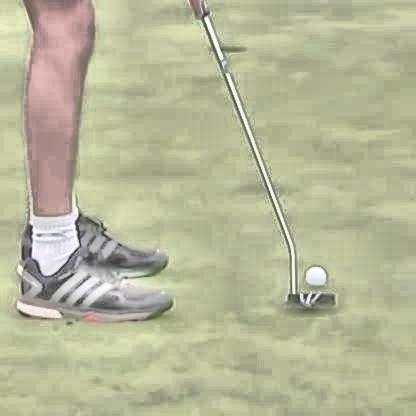golfball: (302, 260, 326, 285)
